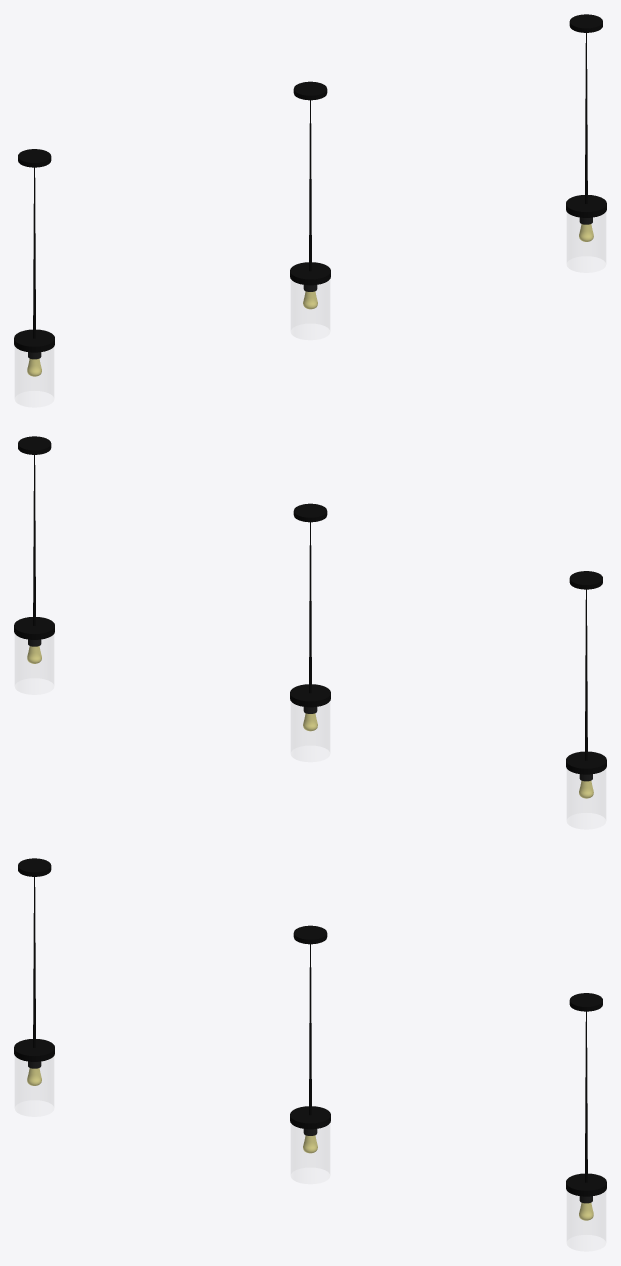
Rendered from Light_ZireMidnightBlack.glb.
The picture shows the model from 3 angles, top to bottom: view 1: azimuth 30°, elevation 25°; view 2: azimuth 150°, elevation 25°; view 3: azimuth 330°, elevation 25°; orthographic projection.
Parts seen in each view (by area): view 1: Zire Midnight Black; view 2: Zire Midnight Black; view 3: Zire Midnight Black.
Part boxes in pixels (box(x1,y1,x2,y2)): Zire Midnight Black: box(14, 14, 606, 396); Zire Midnight Black: box(14, 436, 606, 818); Zire Midnight Black: box(14, 858, 606, 1240).
Bounding box in the file's own units: 3.85 × 1.52 × 0.2338.
